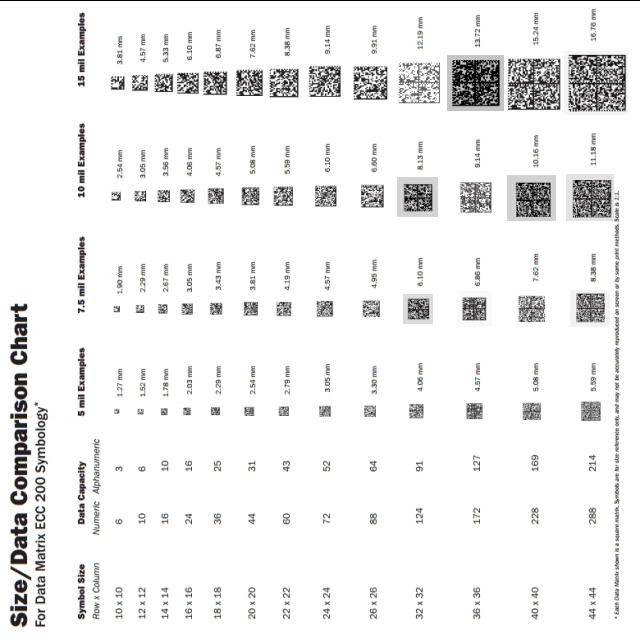DataMatrix: (565, 50, 629, 114), (500, 53, 564, 113), (447, 54, 504, 110), (392, 57, 444, 106), (566, 173, 614, 220), (507, 174, 556, 220), (455, 174, 498, 218), (397, 176, 438, 216), (570, 289, 610, 326), (457, 290, 492, 326), (514, 291, 550, 325), (403, 293, 433, 323)
